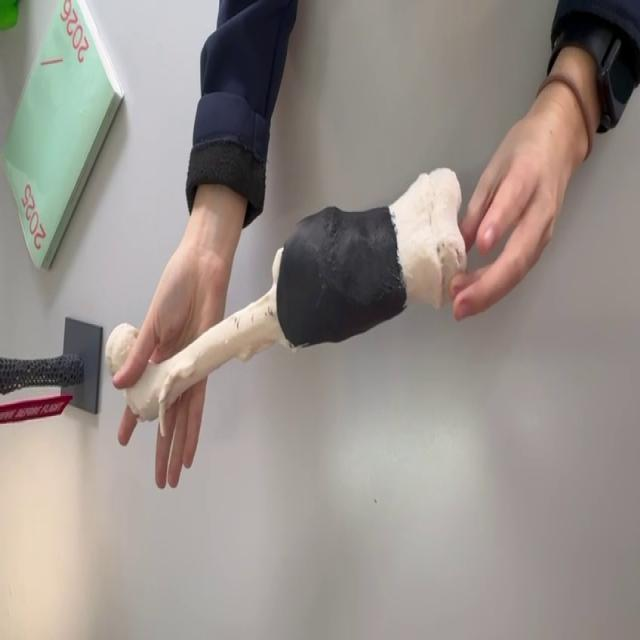bones: (125, 168, 466, 435)
